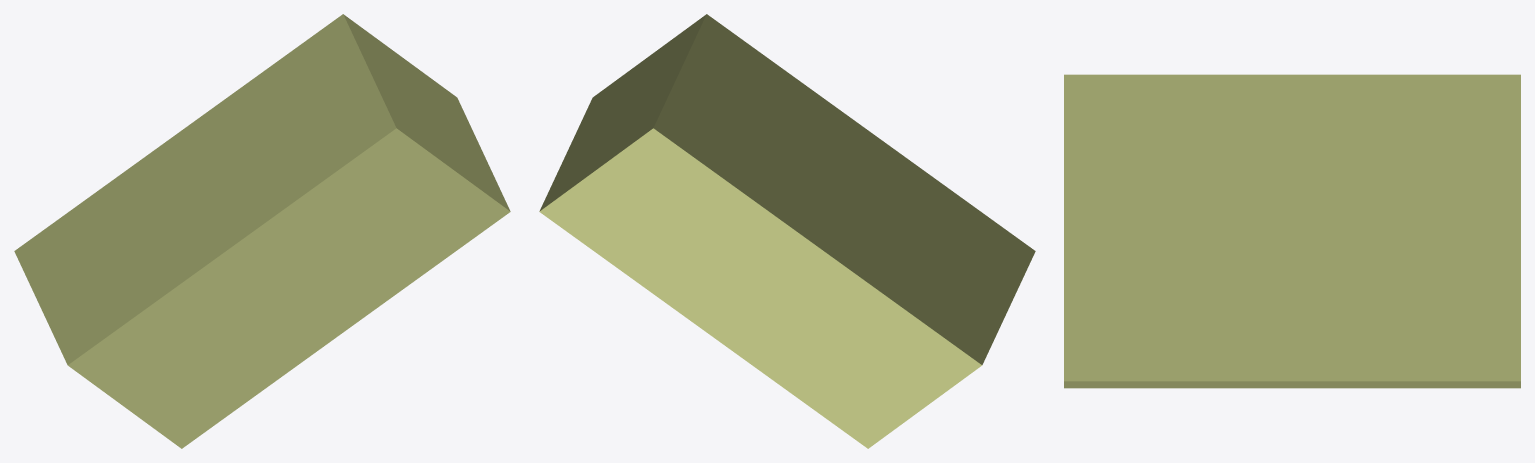
3 views of the same model, side by side, from view 1: azimuth 30°, elevation 25°; view 2: azimuth 150°, elevation 25°; view 3: azimuth 270°, elevation 25° (orthographic). The views are drawn at different scales.
Visible parts, largest first — view 1: 0_1_0_0_1_0_3_0_3_0_3; view 2: 0_1_0_0_1_0_3_0_3_0_3; view 3: 0_1_0_0_1_0_3_0_3_0_3.
Part boxes in pixels (x1,y1,x2,y2): 0_1_0_0_1_0_3_0_3_0_3: (14,14,510,448); 0_1_0_0_1_0_3_0_3_0_3: (539,14,1035,448); 0_1_0_0_1_0_3_0_3_0_3: (1064,74,1520,388).
Bounding box in the file's own units: 11.6 × 8.24 × 6.
